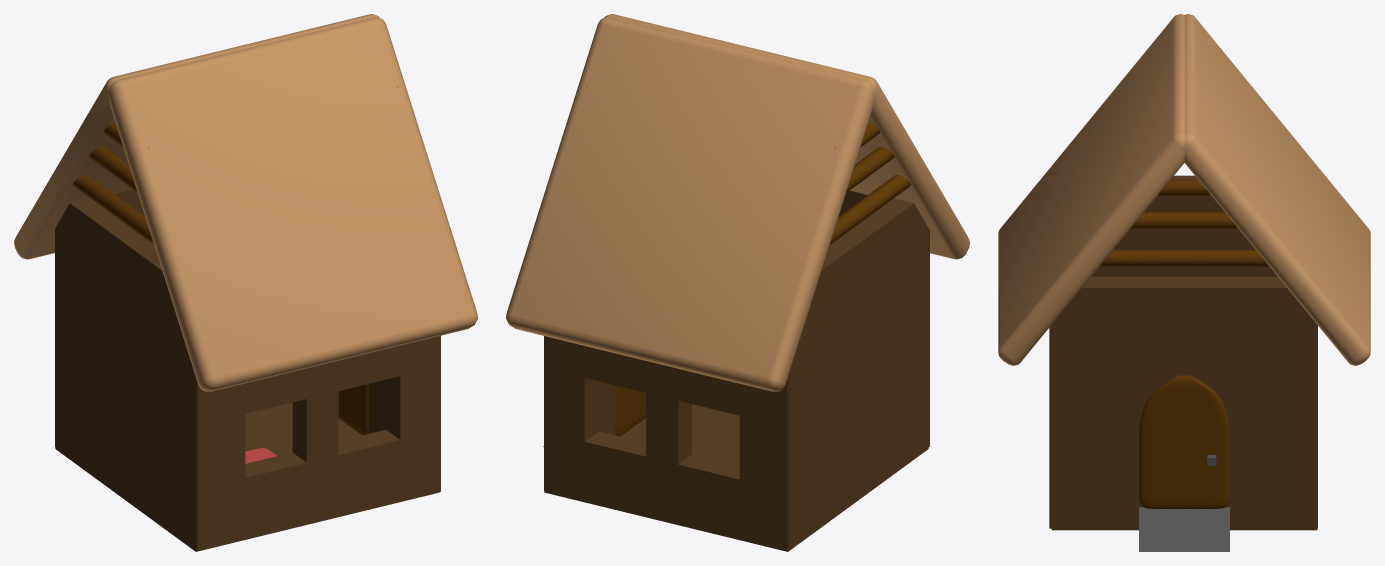
The model's file is house.fbx.
3 views of the same model, side by side, from view 1: azimuth 30°, elevation 25°; view 2: azimuth 150°, elevation 25°; view 3: azimuth 270°, elevation 25° (orthographic). The views are drawn at different scales.
Visible parts, largest first — view 1: Wall, Wall_2_2, Wall_1, Window, Floor, Beam_2, Door, Wall_3, Wall_2; view 2: Wall, Wall_2_2, Wall_2, Floor, Window_2, Beam_2, Door, Wall_3; view 3: Wall, Wall_3, Door, Wall_2_2, Beam_2, Cube_1, Floor, Wall_2.
Part boxes in pixels (x1,y1,x2,y2): Wall: (14, 14, 477, 391); Wall_2_2: (56, 198, 196, 550); Wall_1: (197, 335, 440, 550); Window: (245, 376, 400, 477); Floor: (55, 402, 439, 551); Beam_2: (73, 86, 398, 244); Door: (338, 384, 368, 435); Wall_3: (368, 379, 385, 433); Wall_2: (55, 189, 144, 447); Wall: (506, 14, 969, 391); Wall_2_2: (789, 198, 929, 549); Wall_2: (544, 336, 788, 550); Floor: (544, 404, 928, 551); Window_2: (584, 346, 739, 479); Beam_2: (585, 86, 910, 244); Door: (615, 385, 645, 436); Wall_3: (599, 381, 615, 435); Wall: (998, 14, 1370, 365); Wall_3: (1050, 276, 1315, 528); Door: (1139, 375, 1229, 508); Wall_2_2: (1091, 175, 1277, 276); Beam_2: (1099, 179, 1269, 266); Cube_1: (1139, 507, 1229, 551); Floor: (1051, 506, 1317, 530); Wall_2: (1315, 323, 1317, 528).
Size of the model in its own units: 2.53 by 3.32 by 2.81.
